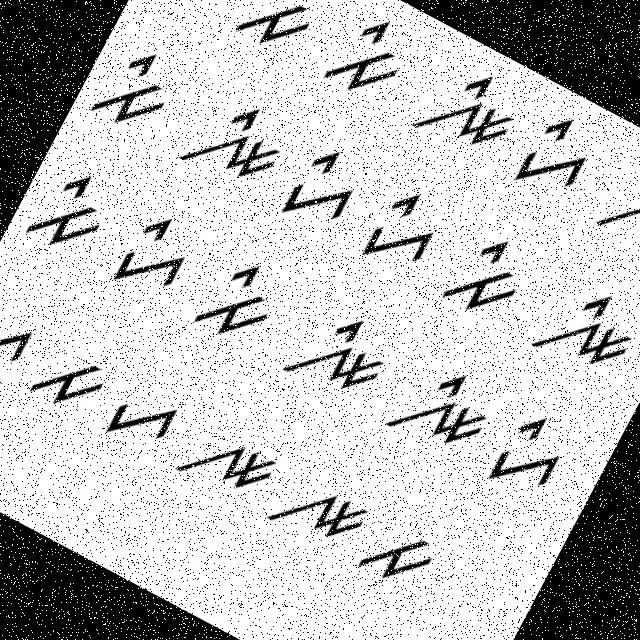ha: (94, 372, 188, 466), (0, 301, 45, 390)
hi: (472, 394, 580, 510), (266, 129, 374, 243), (500, 94, 608, 208), (347, 175, 454, 288), (104, 202, 209, 314), (138, 0, 254, 25)
mba: (20, 330, 117, 430), (352, 512, 443, 602)
mbi: (14, 148, 131, 272), (310, 0, 421, 113), (184, 244, 294, 358), (430, 220, 538, 334), (83, 36, 189, 150), (221, 0, 337, 69)
nda: (254, 454, 378, 570), (168, 409, 284, 516)
ndi: (396, 40, 534, 180), (370, 343, 508, 478), (515, 266, 639, 401), (175, 79, 302, 203), (276, 294, 401, 416), (580, 137, 639, 273)
